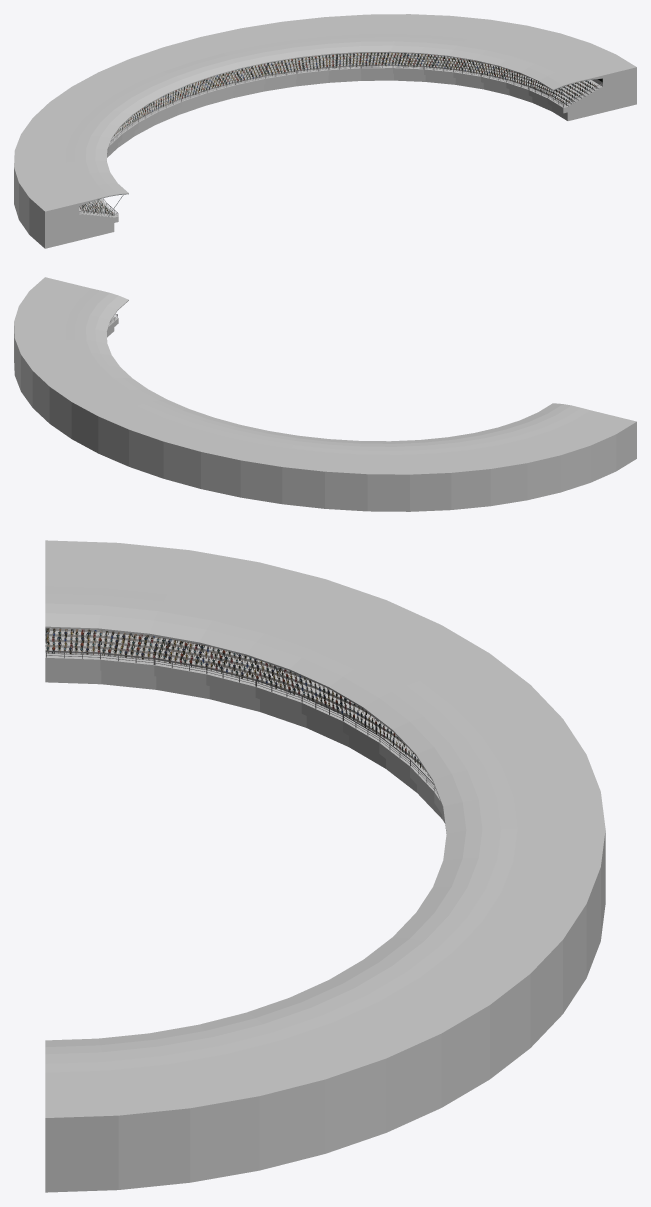
Rendered from Stand-09-m2.fbx.
The picture shows the model from 3 angles, top to bottom: view 1: azimuth 30°, elevation 25°; view 2: azimuth 150°, elevation 25°; view 3: azimuth 270°, elevation 25°; orthographic projection. The views are drawn at different scales.
Visible parts, largest first — view 1: Stand-09-m, Audience; view 2: Stand-09-m; view 3: Stand-09-m, Audience.
Boxes of the visible parts, bbox=[...] form: Stand-09-m: bbox=[14, 14, 636, 248]; Audience: bbox=[79, 52, 596, 215]; Stand-09-m: bbox=[14, 277, 636, 511]; Stand-09-m: bbox=[45, 540, 605, 1192]; Audience: bbox=[46, 628, 430, 777].
Size of the model in its own units: 26226 by 1584 by 10749.
